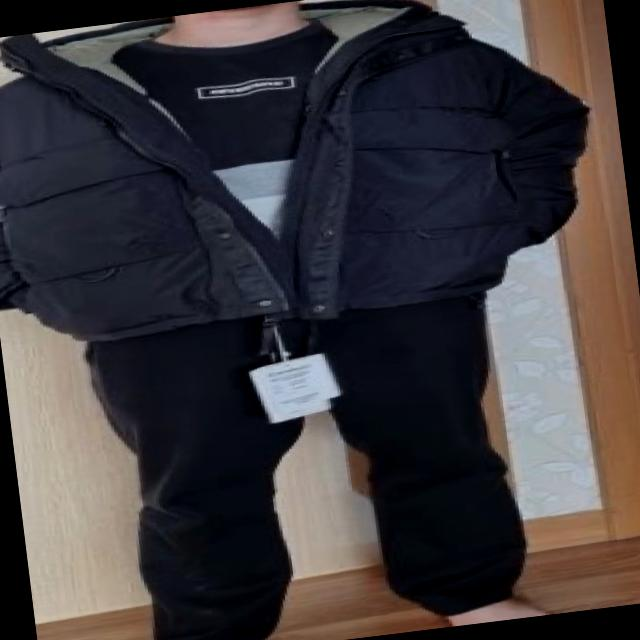denimpants: (80, 286, 545, 640)
padding: (0, 0, 604, 355)
